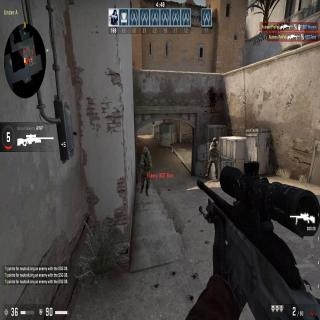CT-Body: (140, 146, 152, 193), (206, 137, 219, 175), (152, 122, 154, 129)
CT-Head: (143, 148, 149, 158), (213, 137, 217, 143), (152, 121, 154, 123)
